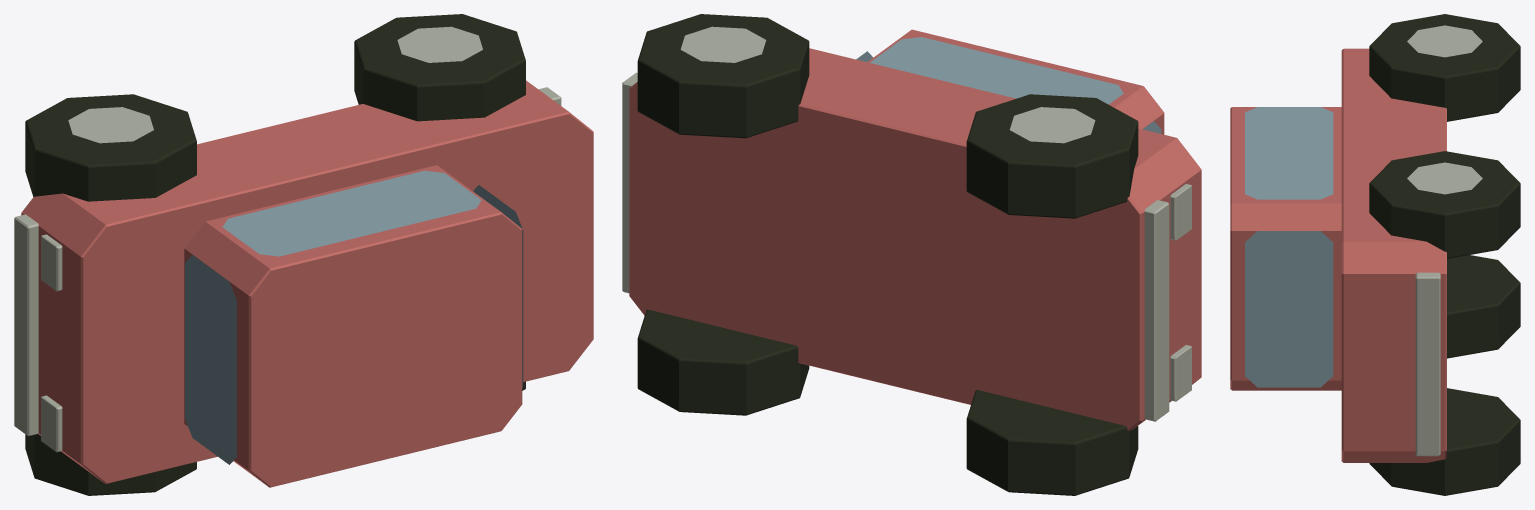
File: toy_car.glb
3 views of the same model, side by side, from view 1: azimuth 30°, elevation 25°; view 2: azimuth 150°, elevation 25°; view 3: azimuth 270°, elevation 25° (orthographic). The views are drawn at different scales.
Visible parts, largest first — view 1: toy_car; view 2: toy_car; view 3: toy_car.
Boxes of the visible parts, bbox=[...] form: toy_car: bbox=[14, 14, 593, 495]; toy_car: bbox=[622, 14, 1201, 495]; toy_car: bbox=[1230, 14, 1520, 495].
Bounding box in the file's own units: 0.125 × 0.076 × 0.069.
